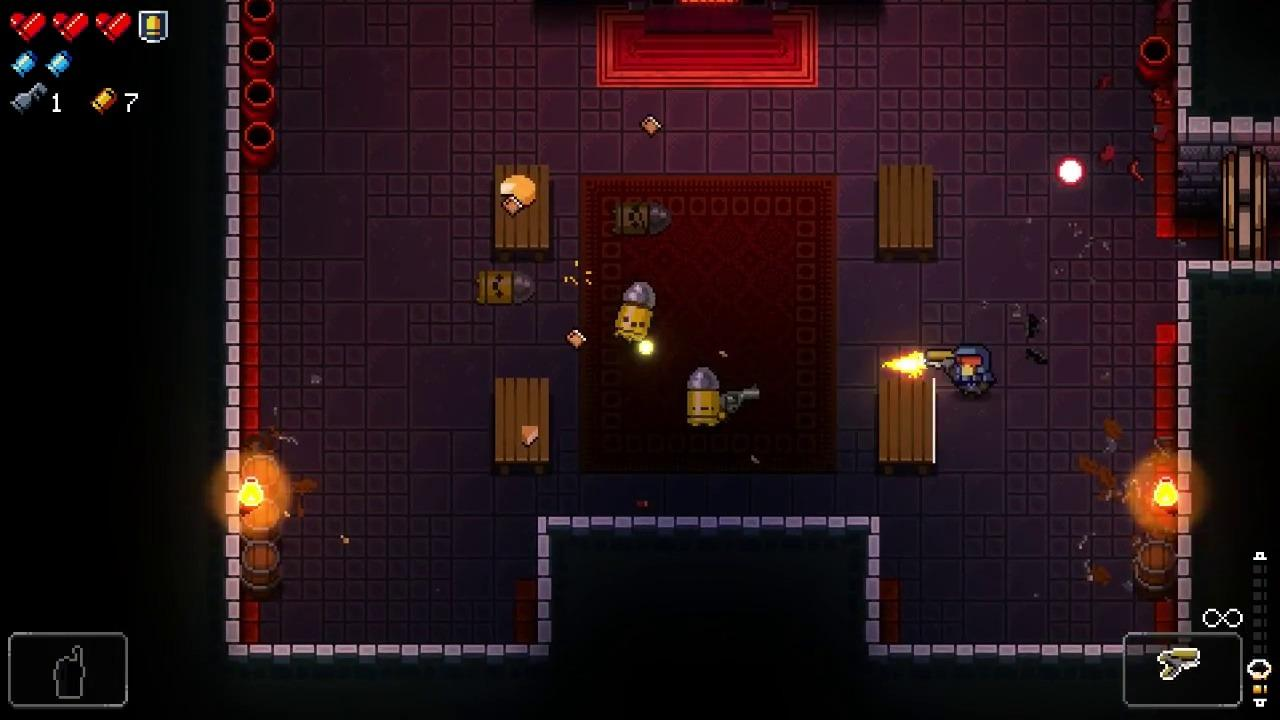bullet_kin: (613, 279, 655, 343), (687, 366, 720, 428)
dead_bullet_kin: (476, 271, 537, 306)
dead_veteran_bullet_kin: (611, 201, 674, 237)
locked_door: (1223, 151, 1268, 262)
player: (952, 343, 998, 399)
table: (878, 377, 936, 476), (494, 163, 548, 262), (494, 377, 548, 475), (877, 166, 933, 260)
